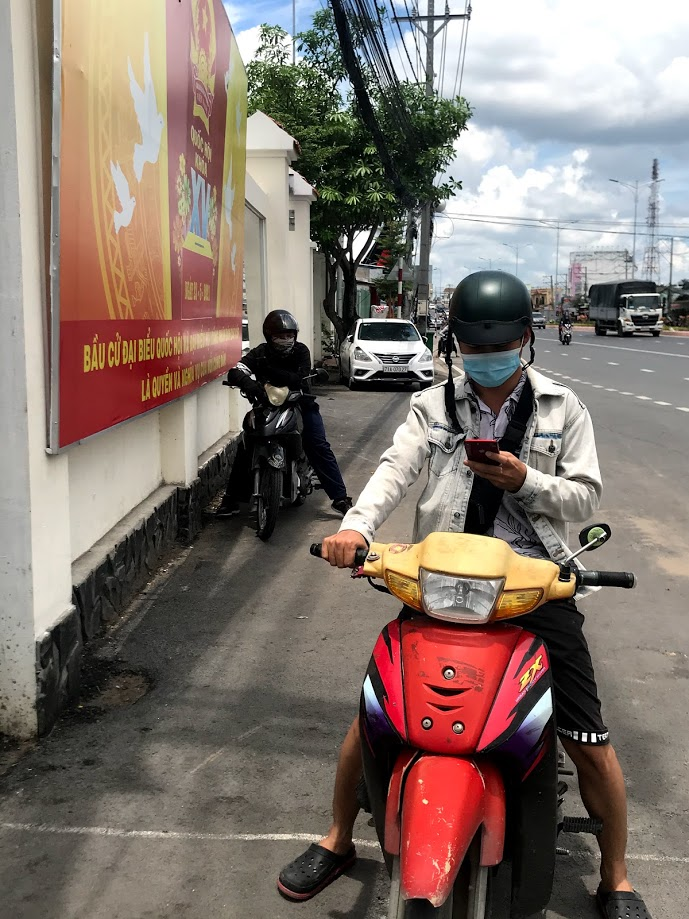dieu khien xe may: (358, 271, 575, 815)
su dung dien thoai: (450, 274, 534, 497)
